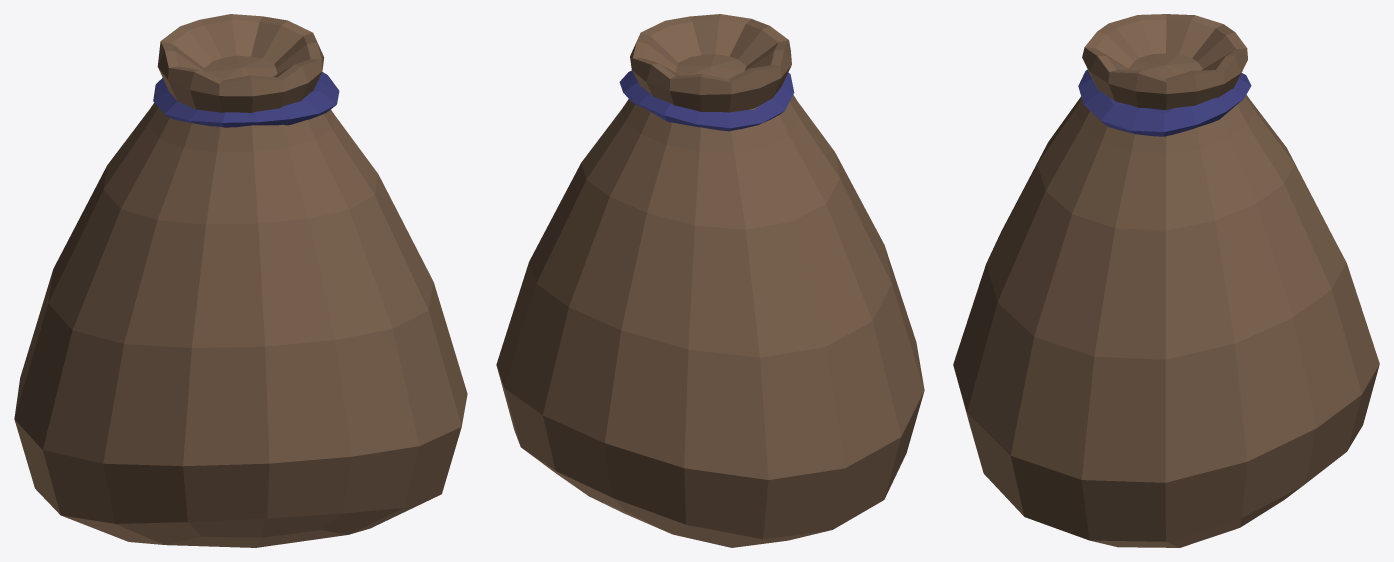
The model's file is Dungeon_Bag_Standing.glb.
3 views of the same model, side by side, from view 1: azimuth 30°, elevation 25°; view 2: azimuth 150°, elevation 25°; view 3: azimuth 270°, elevation 25° (orthographic). The views are drawn at different scales.
Visible parts, largest first — view 1: Bag_Standing; view 2: Bag_Standing; view 3: Bag_Standing.
Boxes of the visible parts, bbox=[...] form: Bag_Standing: bbox=[14, 14, 467, 547]; Bag_Standing: bbox=[496, 14, 924, 547]; Bag_Standing: bbox=[953, 14, 1379, 547].
Bounding box in the file's own units: 0.2178 × 0.2527 × 0.2099.
